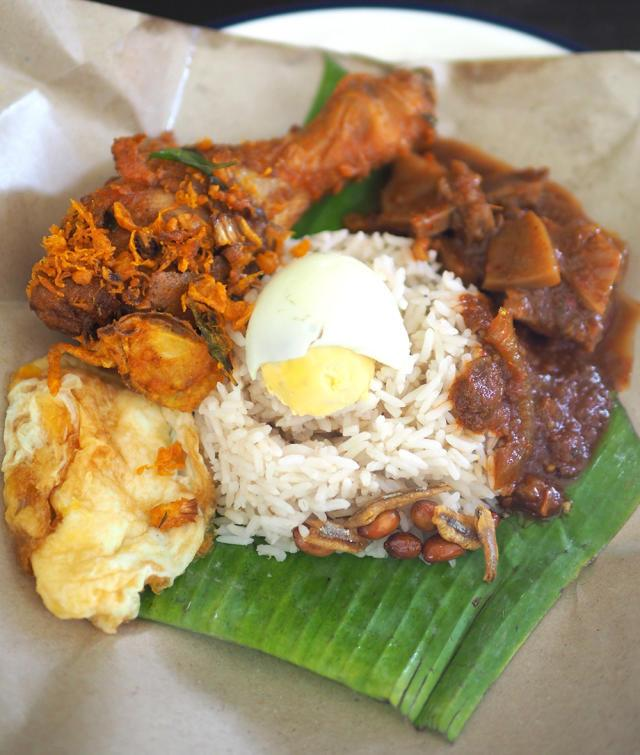Anchovies: (292, 486, 453, 559), (432, 505, 499, 584)
Boiled-Egg: (245, 254, 409, 418)
Fried-Chicken: (13, 70, 435, 415)
Fried-Egg: (2, 347, 213, 626)
Peanuts: (383, 532, 464, 559), (513, 477, 562, 517), (358, 510, 400, 540), (412, 500, 438, 531)
Sambal: (343, 141, 629, 517)
